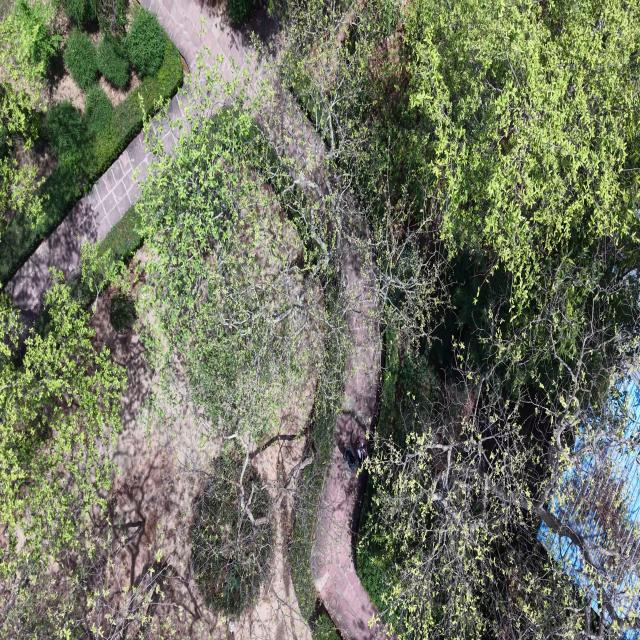DRY_AREA: (0, 291, 228, 639), (92, 289, 316, 639), (93, 290, 316, 639), (92, 292, 223, 639), (113, 413, 311, 639), (234, 193, 322, 639), (311, 245, 394, 639), (311, 248, 394, 639), (311, 246, 393, 639), (311, 247, 389, 639), (311, 247, 389, 638), (311, 247, 386, 638), (6, 131, 152, 317), (6, 132, 151, 317), (311, 416, 386, 638), (234, 438, 312, 639), (140, 0, 272, 79), (258, 78, 328, 200), (341, 248, 381, 430)
PATHWAYS: (311, 246, 388, 639), (6, 132, 152, 314)
ROOFTOP_BUILDING: (538, 372, 639, 623)
VEGETATION_TREE: (110, 0, 639, 639), (275, 4, 637, 637), (280, 0, 638, 637), (136, 70, 348, 619), (283, 2, 637, 317), (359, 301, 634, 637), (402, 0, 639, 310), (136, 73, 322, 439), (0, 247, 170, 639), (134, 92, 322, 442), (275, 3, 447, 340), (0, 2, 183, 283), (0, 0, 182, 282), (0, 278, 124, 572), (0, 510, 177, 639), (286, 276, 348, 639), (287, 377, 341, 639), (190, 448, 274, 616), (0, 0, 60, 234), (0, 82, 42, 235), (0, 0, 61, 104), (3, 0, 61, 87), (67, 244, 128, 313), (126, 8, 165, 76), (46, 101, 86, 160), (100, 207, 143, 260), (64, 29, 98, 90), (98, 33, 129, 89), (85, 86, 114, 135), (96, 0, 129, 36), (109, 293, 137, 333), (63, 0, 96, 26), (311, 611, 341, 639), (228, 0, 254, 25)
